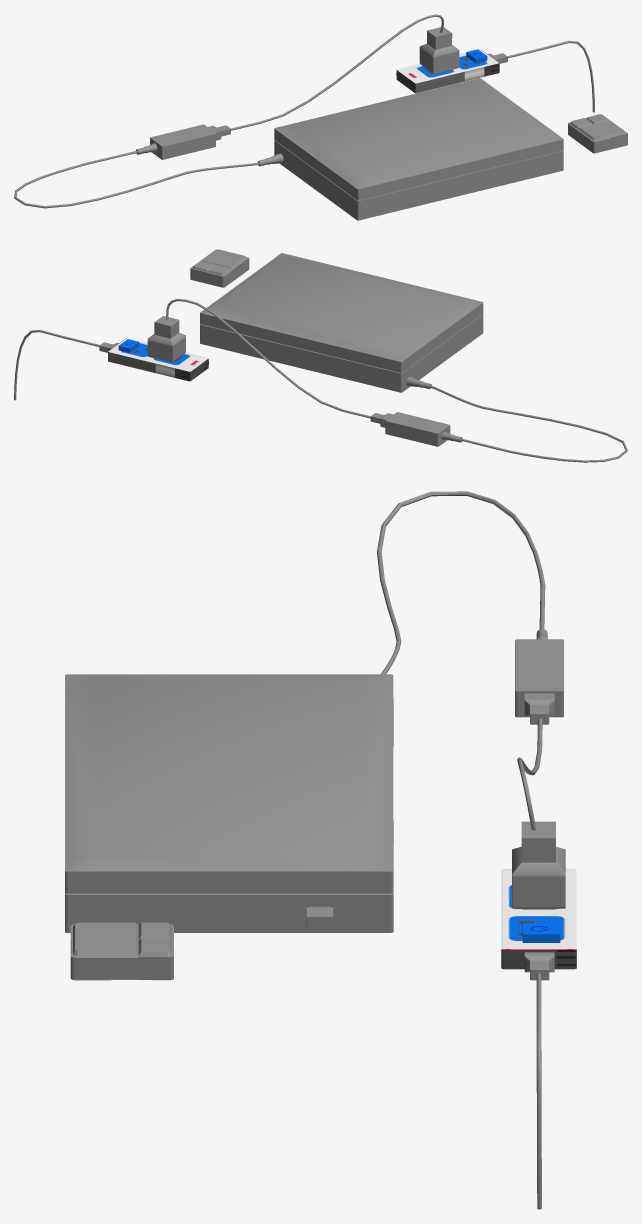
Rendered from computer 1.FBX.
3 renders of one model, top to bottom at view 1: azimuth 30°, elevation 25°; view 2: azimuth 150°, elevation 25°; view 3: azimuth 270°, elevation 25°, orthographic. The views are drawn at different scales.
Visible parts, largest first — view 1: computer, Line001, cz, box001; view 2: computer, Line001, cz, box001; view 3: computer, Line001, box001, cz.
Part boxes in pixels (x1=…): computer: x1=274, y1=40, x2=594, y2=220; Line001: x1=14, y1=14, x2=459, y2=208; cz: x1=396, y1=49, x2=499, y2=93; box001: x1=568, y1=114, x2=627, y2=153; computer: x1=14, y1=253, x2=483, y2=400; Line001: x1=147, y1=299, x2=627, y2=462; cz: x1=108, y1=338, x2=208, y2=381; box001: x1=190, y1=249, x2=249, y2=287; computer: x1=65, y1=674, x2=554, y2=1209; Line001: x1=377, y1=491, x2=565, y2=909; box001: x1=70, y1=922, x2=173, y2=980; cz: x1=501, y1=869, x2=576, y2=969.
Bounding box in the file's own units: 142 × 31.81 × 53.52.
